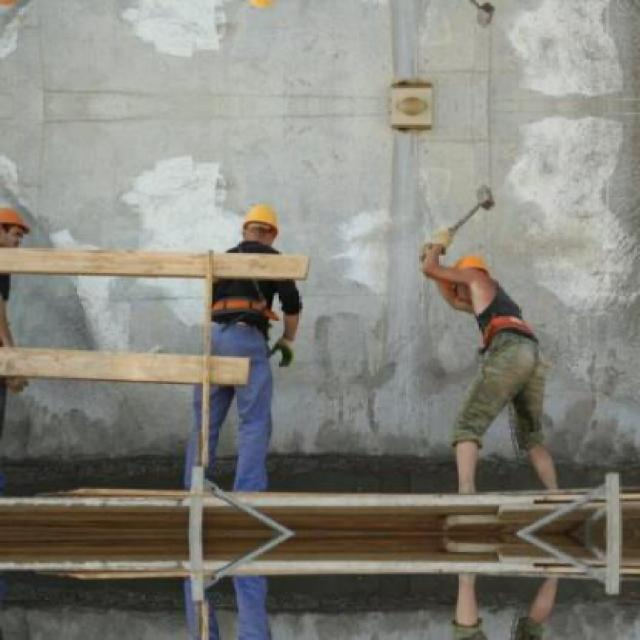con casco: (192, 192, 330, 266), (391, 246, 516, 315), (0, 176, 74, 268)
